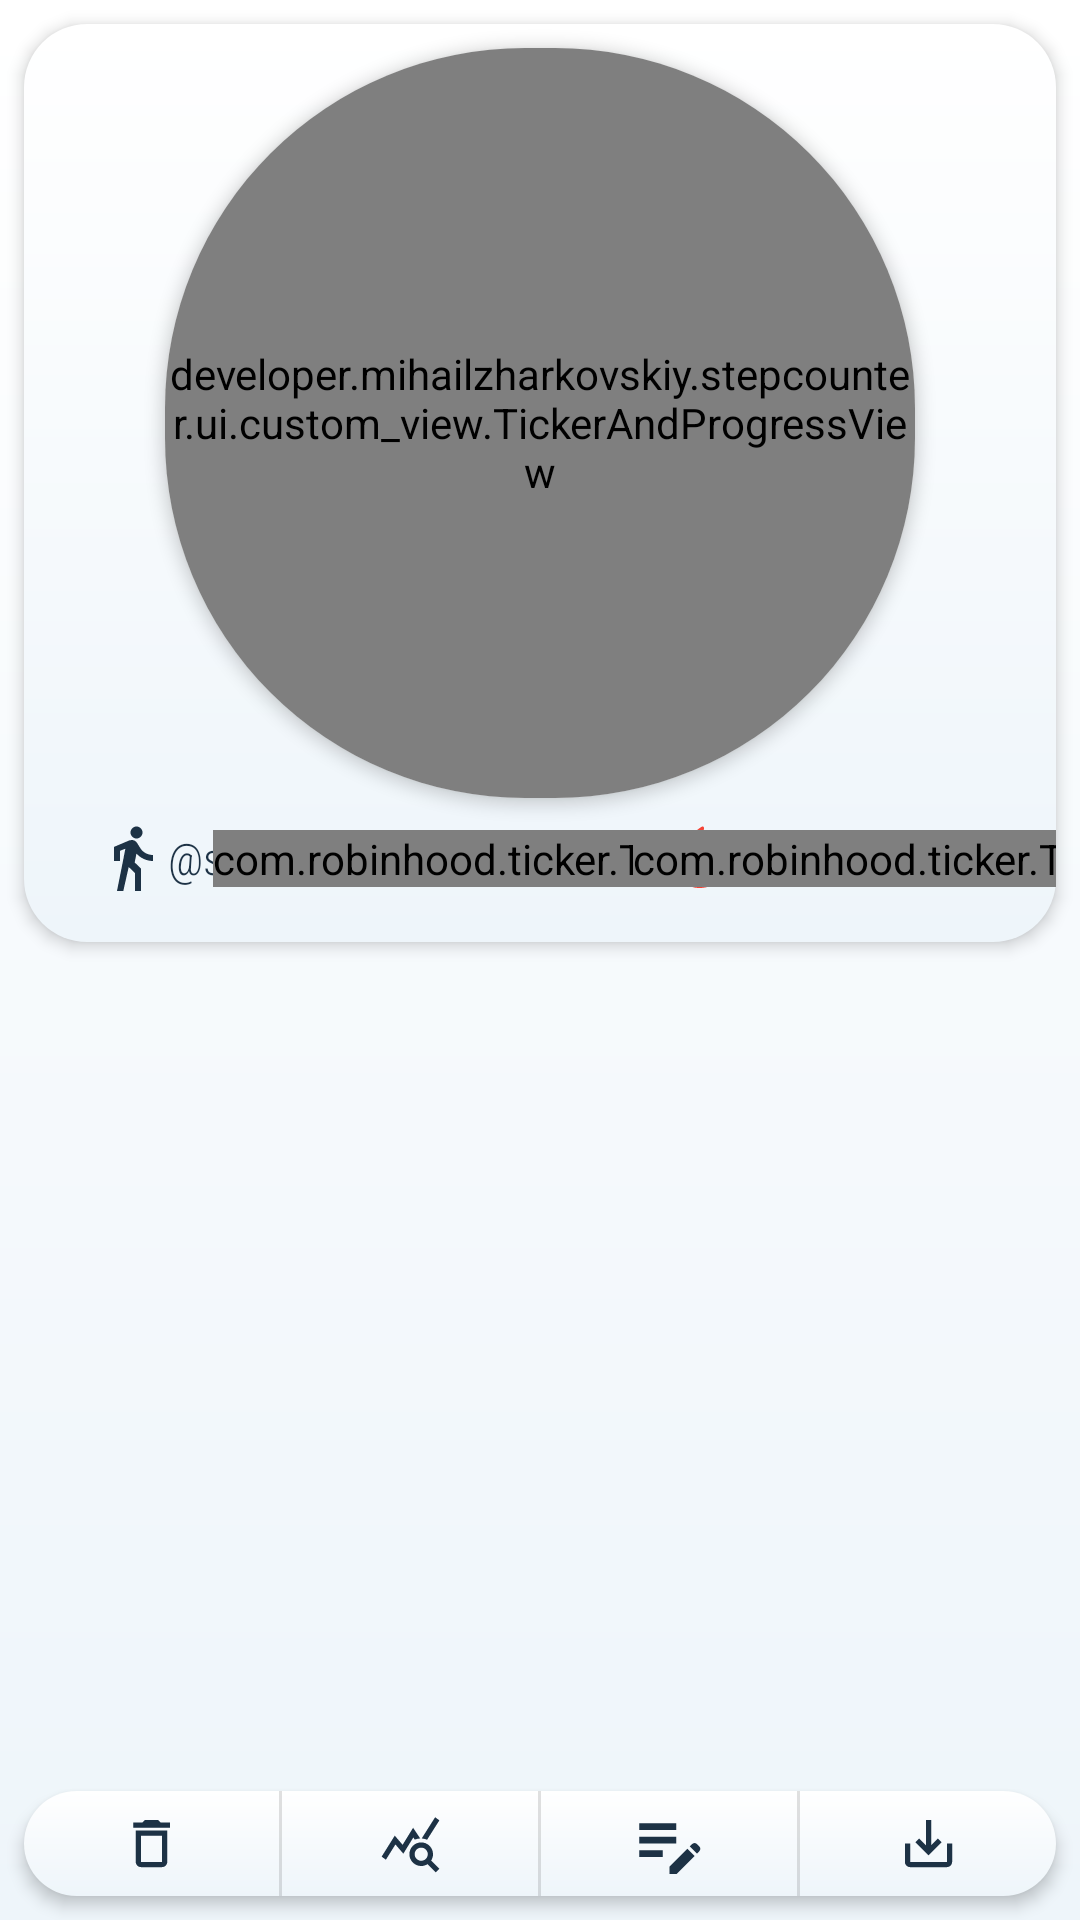

Named icons in this screenshot (1080 x 1920) and their bounding boxes, [x1,y1,x2,y2]:
delete: [133,1820,170,1868]
save: [905,1820,953,1868]
